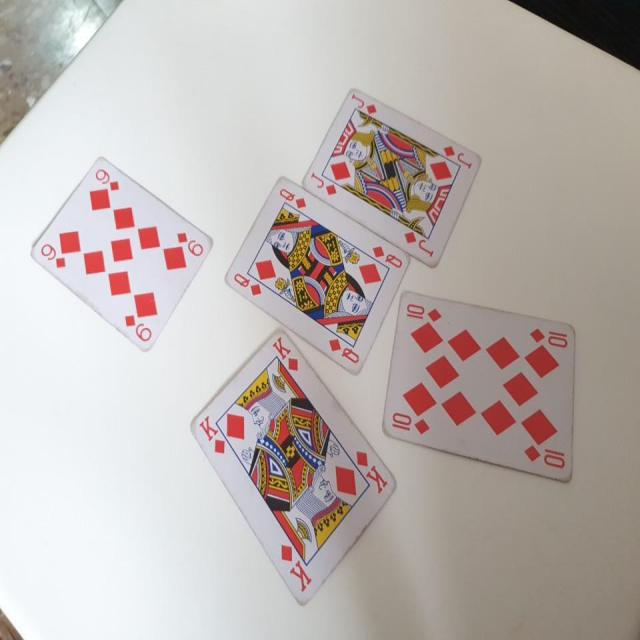10 Diamonds: (380, 288, 577, 481)
9 Diamonds: (28, 154, 213, 352)
J Diamonds: (301, 84, 484, 268)
K Diamonds: (189, 327, 398, 607)
Q Diamonds: (222, 176, 410, 375)
